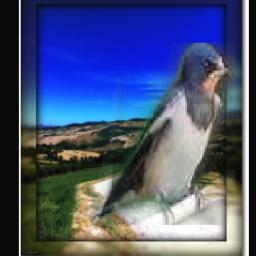Swallow: (90, 43, 234, 225)
